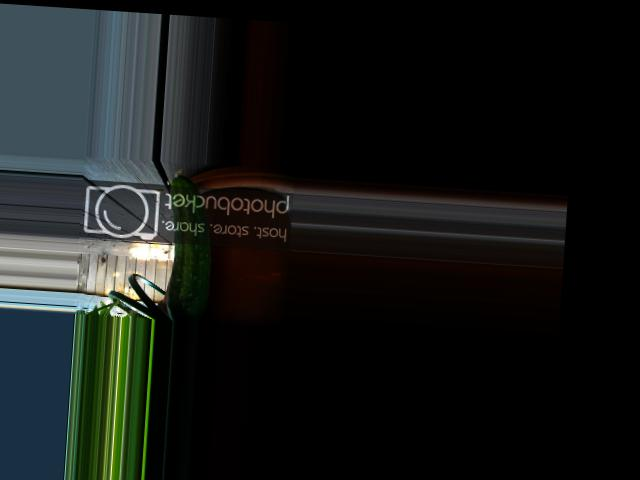cucumber: (161, 167, 216, 321)
